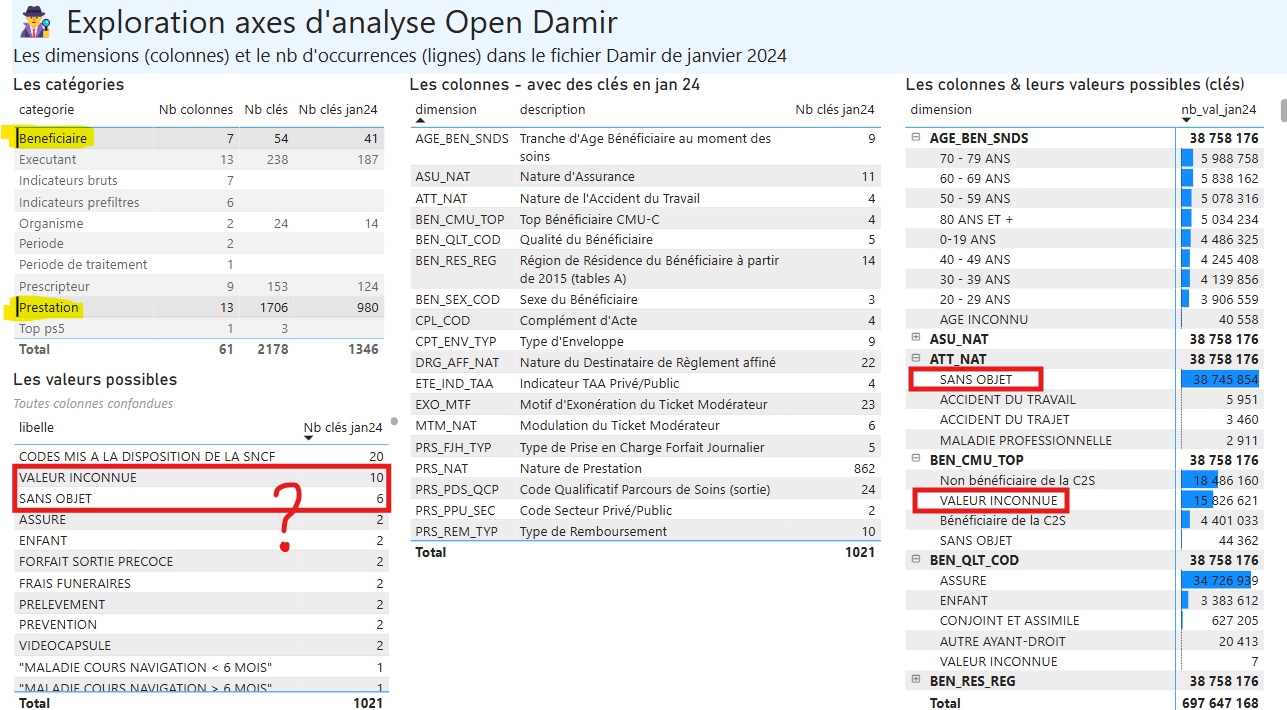

The page's visual inventory and layout, read from the dashboard file:
{"tool":"powerbi","page":{"name":"Explo Colonnes","canvas":[1280,720],"ordinal":0},"visuals":[{"type":"pivotTable","title":"Les colonnes & leurs valeurs possibles (clés)","fields":{"Rows":["dim_damir_cle_libelle_nbValJan24.dimension","dim_damir_cle_libelle_nbValJan24.libelle"],"Values":["dim_damir_cle_libelle_nbValJan24.nb_val_jan24"]},"box":[888.2,79.6,391.8,640.6],"z":0},{"type":"tableEx","title":"Les colonnes - avec des clés en jan 24","fields":{"Values":["dim_damir.dimension","dim_damir.description","dim_damir_cle_libelle_nbValJan24.Nb clés jan24"]},"box":[394.3,79.6,493.9,640.6],"z":1000},{"type":"tableEx","title":"Les catégories","fields":{"Values":["dim_damir.categorie","dim_damir.dimension","dim_damir_cle_libelle_nbValJan24.Nb clés","dim_damir_cle_libelle_nbValJan24.Nb clés jan24"]},"box":[0,79.6,393.8,293.7],"z":2000},{"type":"tableEx","title":"Les valeurs possibles","fields":{"Values":["dim_damir_cle_libelle_nbValJan24.libelle","dim_damir_cle_libelle_nbValJan24.Nb clés jan24"]},"box":[0,373.2,393.8,347.2],"z":3000},{"type":"textbox","box":[0,0,1280.3,79.6],"z":4000}]}

Visuals, with their boxes in screenshot pixels (x1, y1, x2, y2), scaled from the page's 1280x720 canvas onto the 1287x710 screenshot:
"Les colonnes & leurs valeurs possibles (clés)" pivotTable: bbox=[893, 78, 1286, 709]
"Les colonnes - avec des clés en jan 24" tableEx: bbox=[396, 78, 893, 709]
"Les catégories" tableEx: bbox=[0, 78, 396, 368]
"Les valeurs possibles" tableEx: bbox=[0, 368, 396, 709]
textbox: bbox=[0, 0, 1286, 78]
